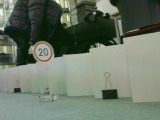speed_20: (32, 40, 56, 64)
